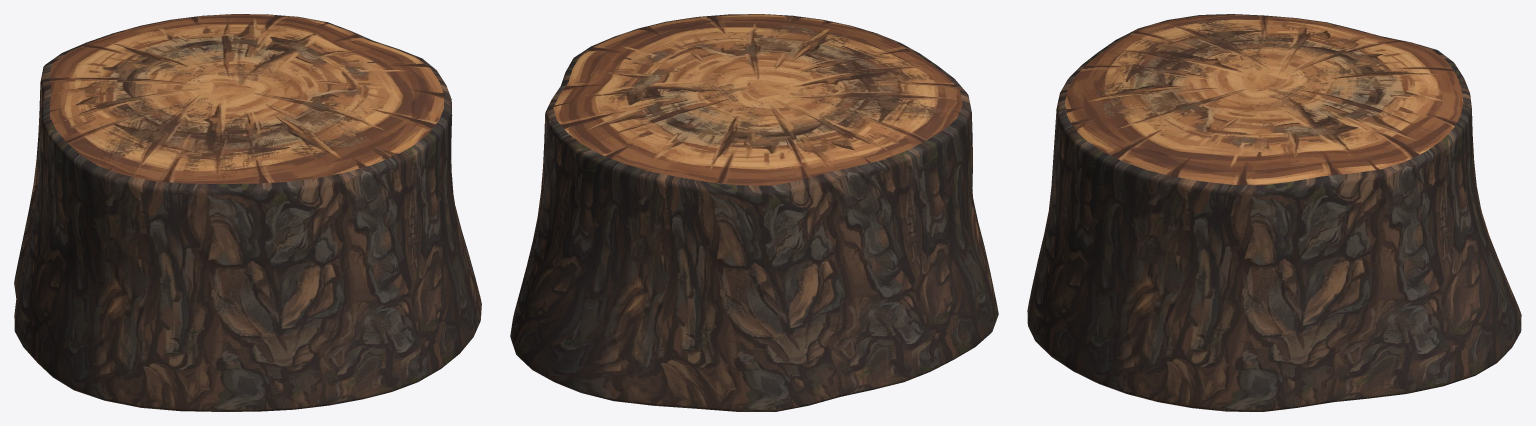
The model's file is chopping_stump_a.fbx.
3 views of the same model, side by side, from view 1: azimuth 30°, elevation 25°; view 2: azimuth 150°, elevation 25°; view 3: azimuth 270°, elevation 25° (orthographic).
Parts seen in each view (by area): view 1: chopping_stump; view 2: chopping_stump; view 3: chopping_stump.
Boxes of the visible parts, x1,y1,x2,y2 form: chopping_stump: [14, 14, 481, 411]; chopping_stump: [510, 14, 998, 411]; chopping_stump: [1027, 14, 1521, 411].
Bounding box in the file's own units: 255 × 133 × 264.
Materials: 3 (2 with a texture image).
